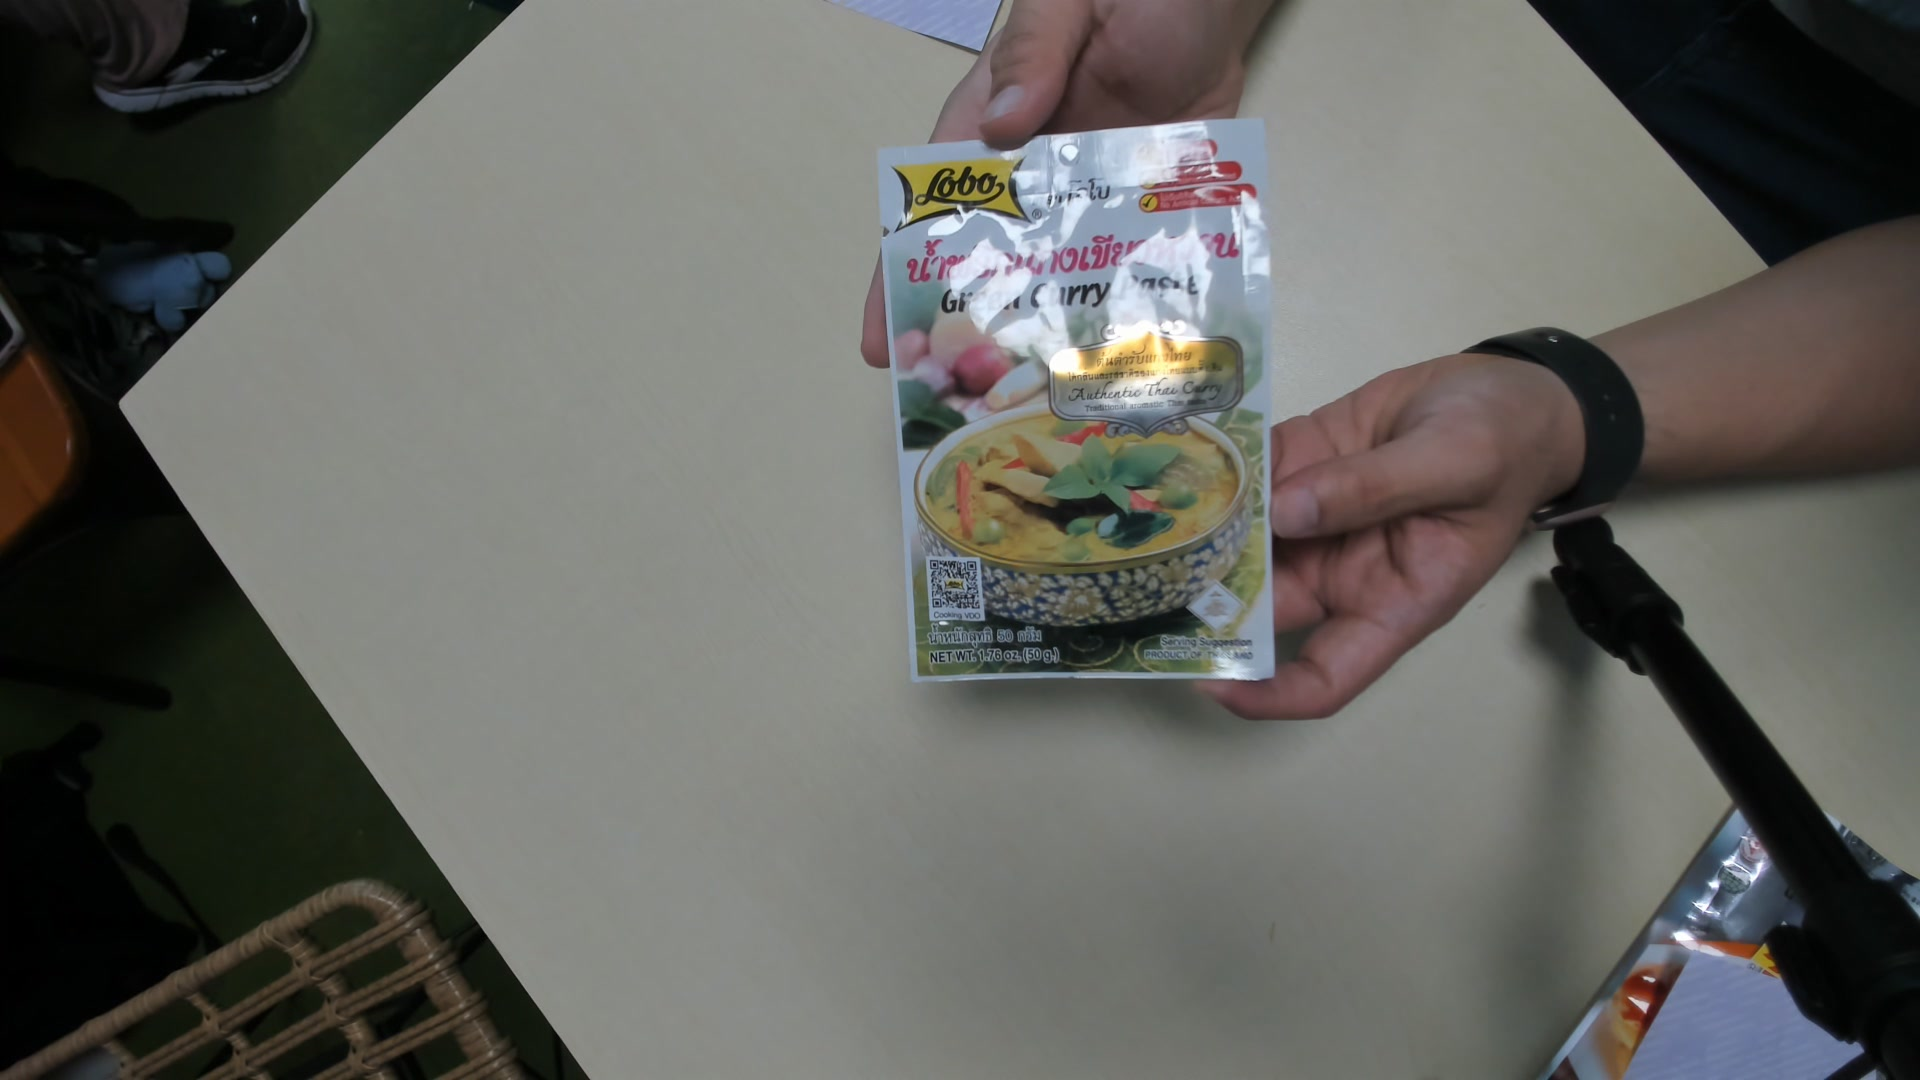CurryPastePowderSauce_0-99g_Halal_NonHealthy: (872, 112, 1283, 695)
